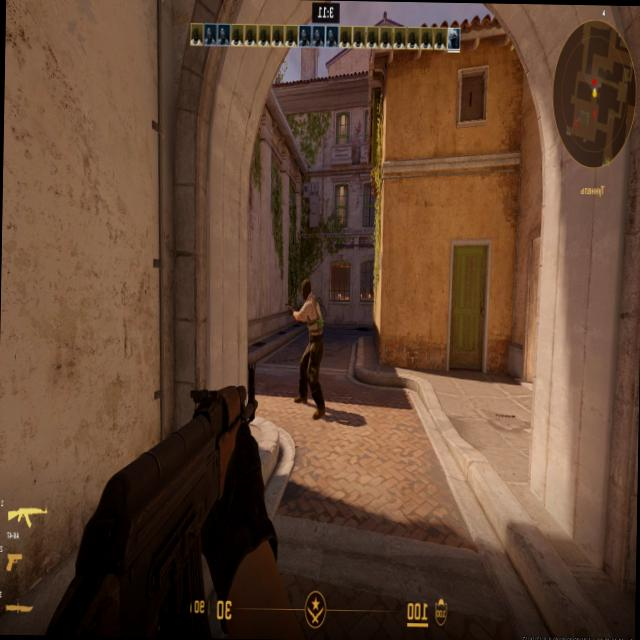T: (301, 279, 320, 405)
T_heat: (305, 284, 312, 304)
